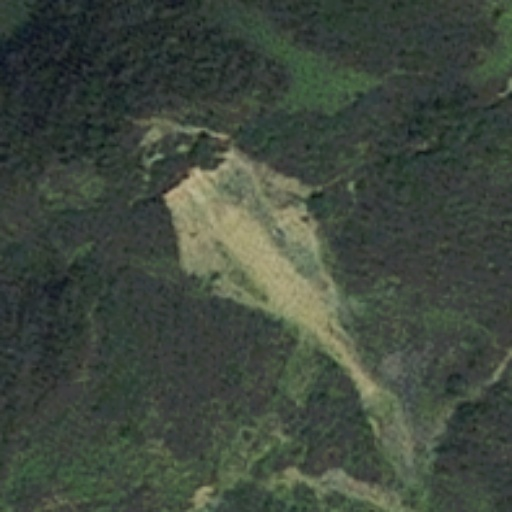landslide: (163, 154, 382, 402)
